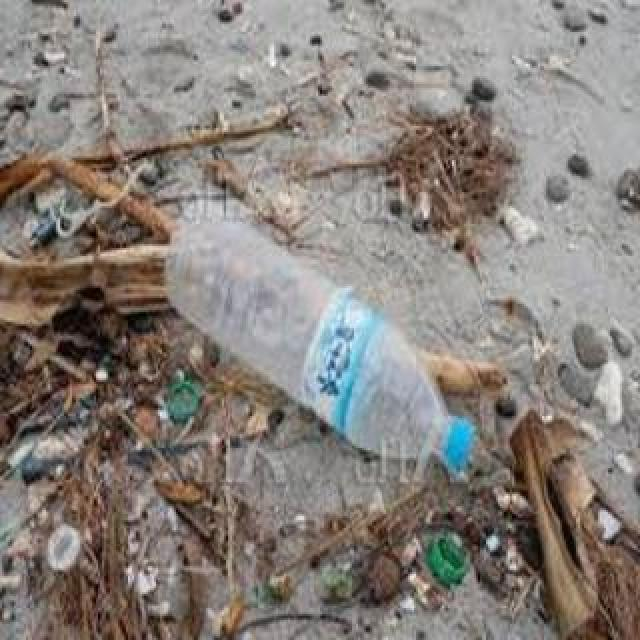Pet_Bottle: (167, 195, 479, 479)
